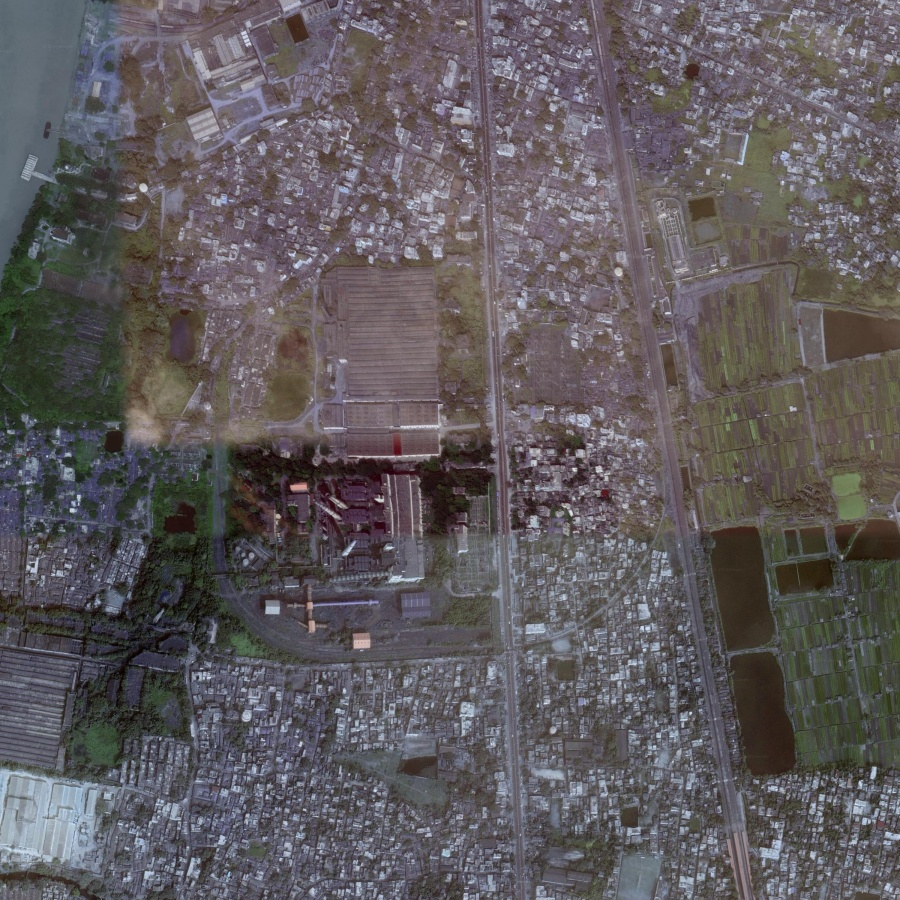PowerPlant: (219, 409, 464, 648)
